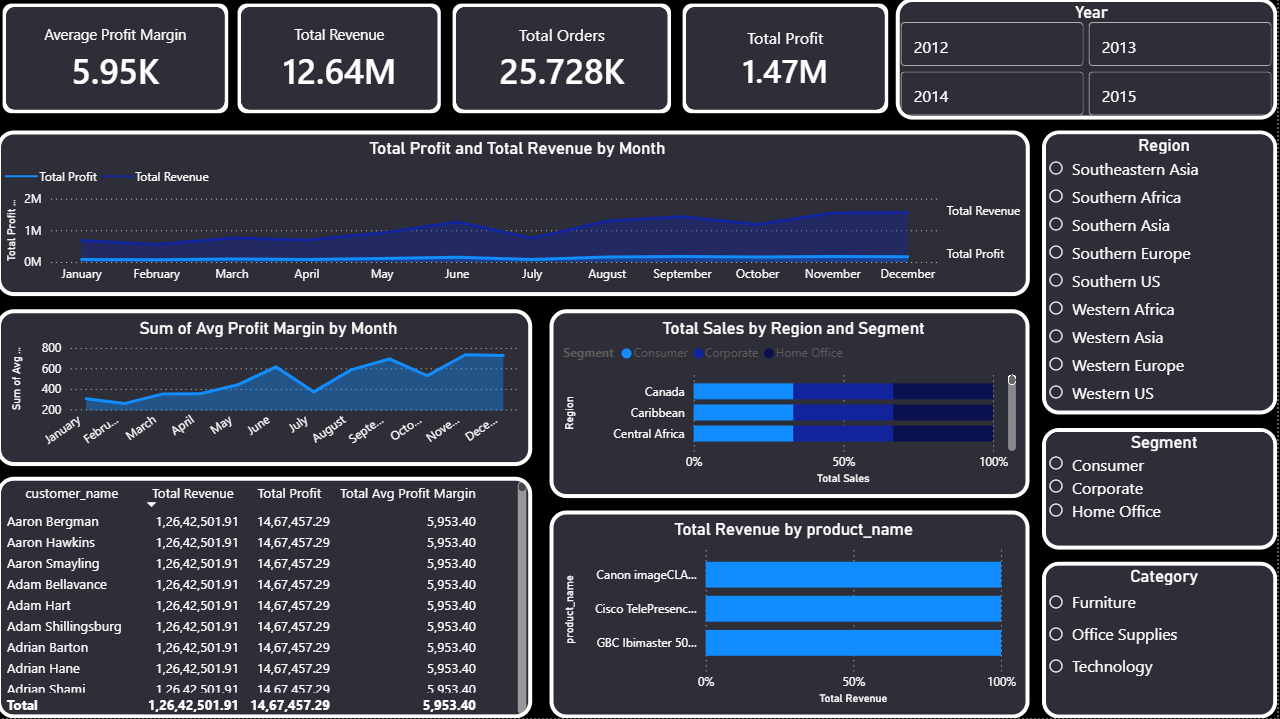

The dashboard page shown, as its layout file describes it:
{"tool":"powerbi","page":{"name":"Page 1","canvas":[1280,720],"ordinal":0},"visuals":[{"type":"cardVisual","fields":{"Data":["Sum(fact_sales.Profit)"]},"box":[680.4,0,217.7,121.9],"z":0},{"type":"cardVisual","fields":{"Data":["Sum(fact_sales.Avg Profit Margin)"]},"box":[0,0,237.6,121.9],"z":1000},{"type":"cardVisual","fields":{"Data":["Count(fact_sales.order_id)"]},"box":[450.3,0,230.1,121.9],"z":2000},{"type":"areaChart","fields":{"Y":["Sum(fact_sales.Profit)","Sum(fact_sales.Sales)"],"Category":["fact_sales.order_date.Variation.Date Hierarchy.Month"]},"box":[0,133.1,1032.5,165.4],"z":3000},{"type":"cardVisual","fields":{"Data":["Sum(fact_sales.Sales)"]},"box":[235.1,0,215.2,121.9],"z":4000},{"type":"areaChart","fields":{"Category":["fact_sales.order_date.Variation.Date Hierarchy.Month"],"Y":["Sum(fact_sales.Avg Profit Margin)"]},"box":[0,311,534.9,156.7],"z":5000},{"type":"hundredPercentStackedBarChart","fields":{"Category":["dim_customer.Region"],"Series":["dim_customer.Segment"],"Y":["Sum(fact_sales.Sales)"]},"box":[552.3,311,480.2,189.1],"z":6000},{"type":"tableEx","fields":{"Values":["dim_customer.customer_name","Sum(fact_sales.Sales)","Sum(fact_sales.Profit)","Sum(fact_sales.Avg Profit Margin)"]},"box":[0,478.9,534.9,241.3],"z":7000},{"type":"hundredPercentStackedBarChart","fields":{"Category":["dim_product.product_name"],"Y":["Sum(fact_sales.Sales)"]},"box":[552.3,512.5,480.2,207.7],"z":8000},{"type":"advancedSlicerVisual","fields":{"Values":["fact_sales.order_date.Variation.Date Hierarchy.Year"]},"box":[898.1,0,381.9,121.9],"z":9000},{"type":"listSlicer","fields":{"Values":["dim_customer.Region"]},"box":[1044.9,133.1,235.1,283.6],"z":10000},{"type":"listSlicer","fields":{"Values":["dim_customer.Segment"]},"box":[1044.9,430.4,235.1,121.9],"z":10001},{"type":"listSlicer","fields":{"Values":["dim_product.Category"]},"box":[1044.9,563.5,235.1,156.7],"z":10002}]}

Visuals, with their boxes in screenshot pixels (x1, y1, x2, y2), scaled from the page's 1280x720 canvas onto the 1280x719 screenshot:
cardVisual - Sum(fact_sales.Profit): (680, 0, 898, 122)
cardVisual - Sum(fact_sales.Avg Profit Margin): (0, 0, 238, 122)
cardVisual - Count(fact_sales.order_id): (450, 0, 680, 122)
areaChart - Sum(fact_sales.Profit) x Sum(fact_sales.Sales): (0, 133, 1032, 298)
cardVisual - Sum(fact_sales.Sales): (235, 0, 450, 122)
areaChart - fact_sales.order_date.Variation.Date Hierarchy.Month x Sum(fact_sales.Avg Profit Margin): (0, 311, 535, 467)
hundredPercentStackedBarChart - dim_customer.Region x dim_customer.Segment: (552, 311, 1032, 499)
tableEx - dim_customer.customer_name x Sum(fact_sales.Sales): (0, 478, 535, 718)
hundredPercentStackedBarChart - dim_product.product_name x Sum(fact_sales.Sales): (552, 512, 1032, 718)
advancedSlicerVisual - fact_sales.order_date.Variation.Date Hierarchy.Year: (898, 0, 1279, 122)
listSlicer - dim_customer.Region: (1045, 133, 1279, 416)
listSlicer - dim_customer.Segment: (1045, 430, 1279, 552)
listSlicer - dim_product.Category: (1045, 563, 1279, 718)
